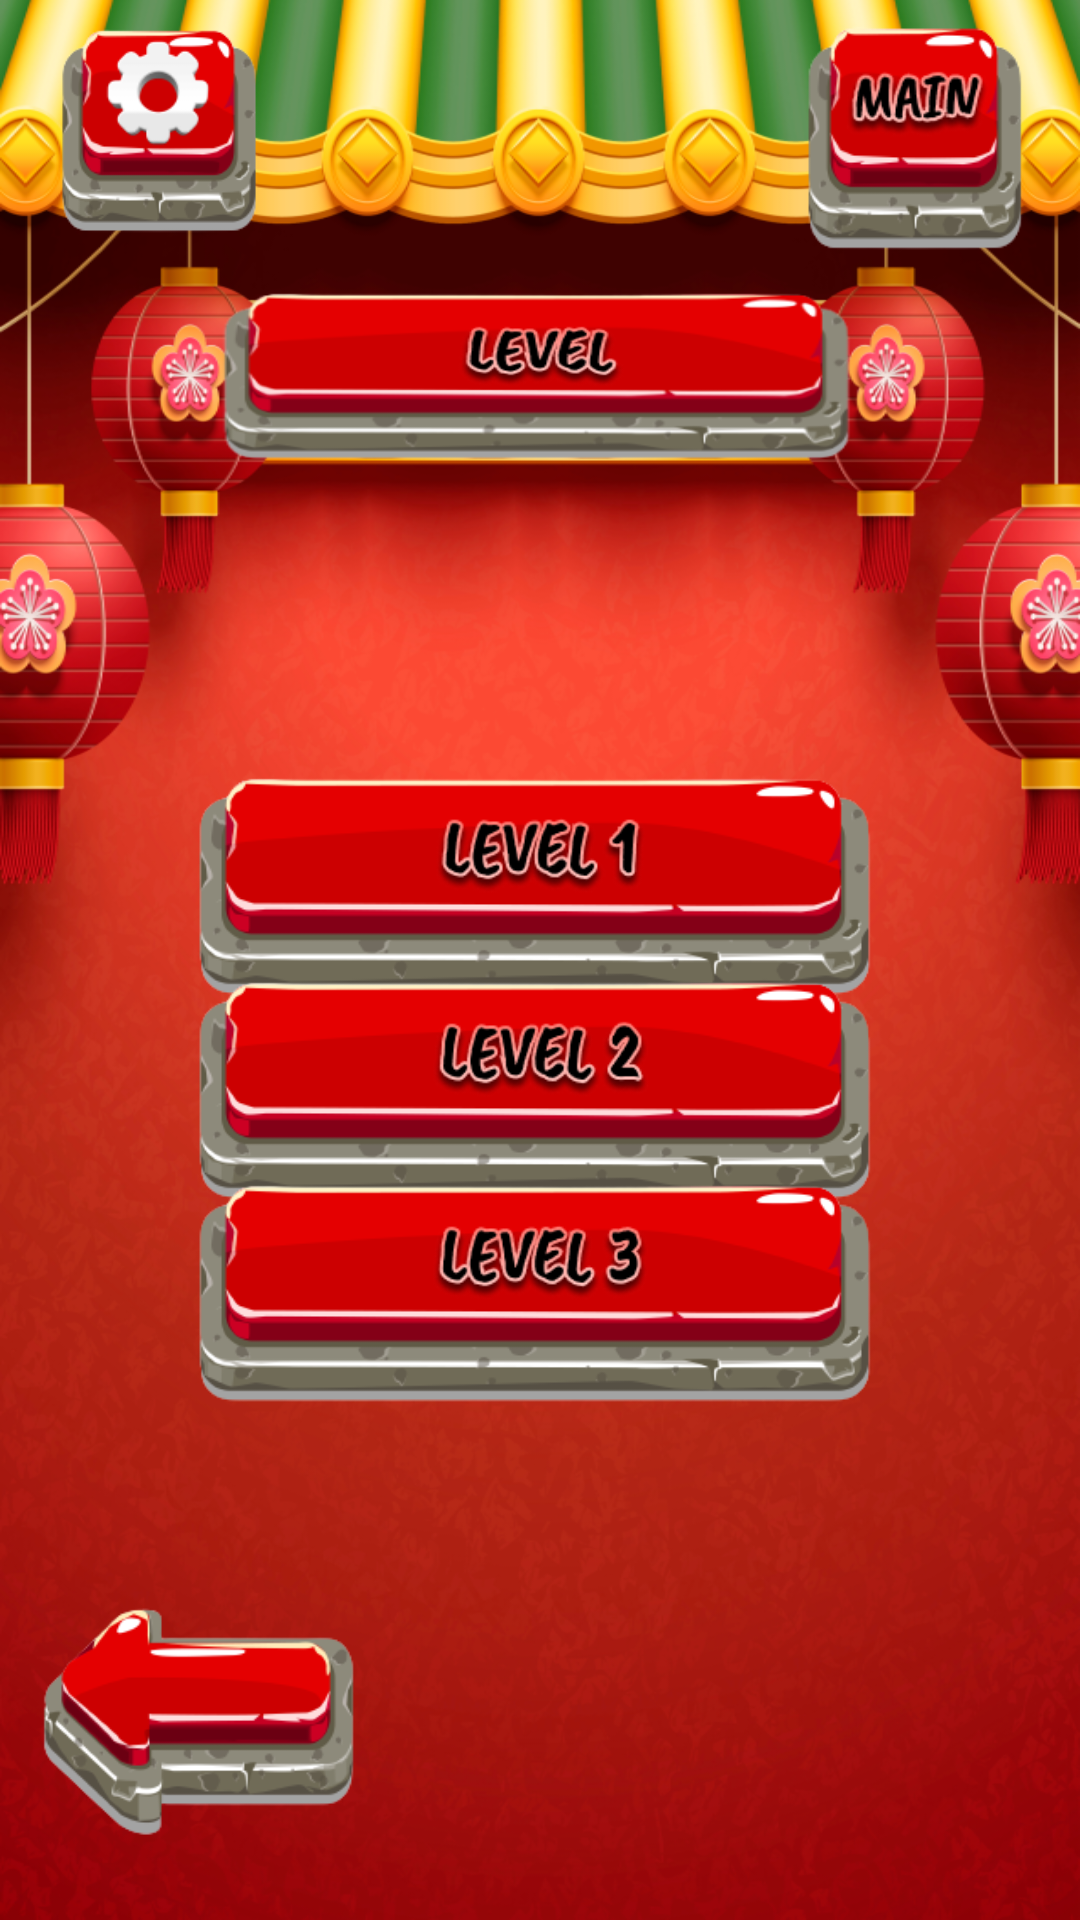

Where to tap for icons on this 1080*1920 app screen, as (x,y):
back tap: (202,1703)
setting tap: (159,126)
